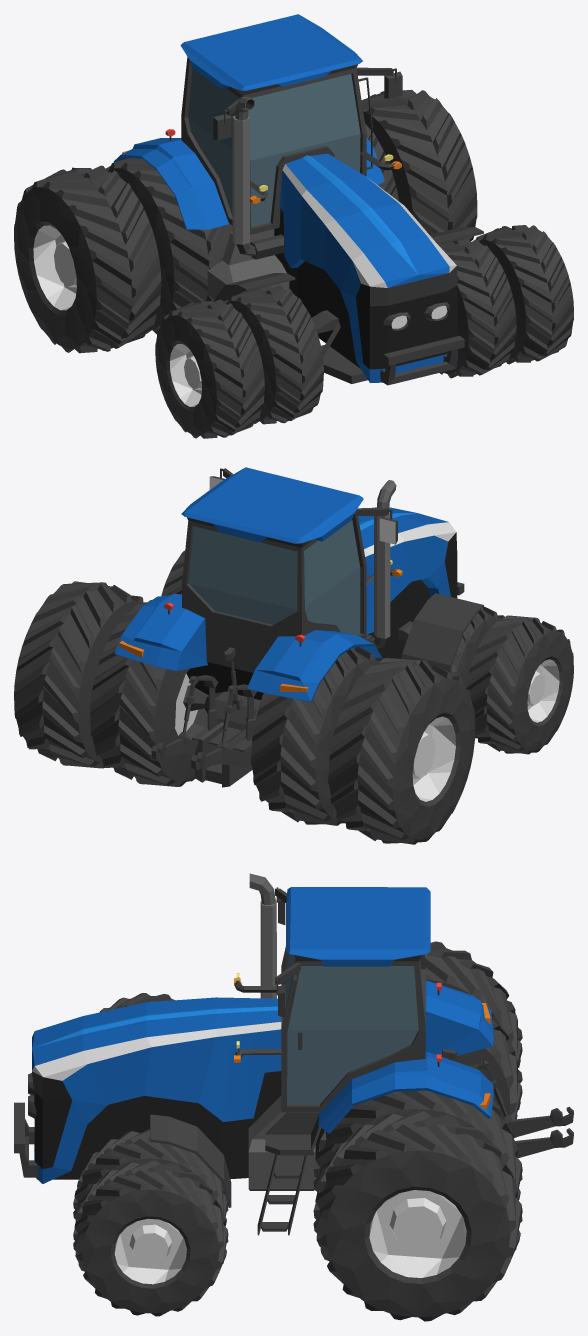
The model's file is tractor_002.glb.
The picture shows the model from 3 angles, top to bottom: view 1: azimuth 30°, elevation 25°; view 2: azimuth 150°, elevation 25°; view 3: azimuth 270°, elevation 25°; orthographic projection. The views are drawn at different scales.
Parts seen in each view (by area): view 1: tractor_002; view 2: tractor_002; view 3: tractor_002.
Part boxes in pixels (x1=…): tractor_002: x1=14, y1=14, x2=573, y2=438; tractor_002: x1=14, y1=467, x2=573, y2=844; tractor_002: x1=14, y1=873, x2=573, y2=1321.
Bounding box in the file's own units: 4.11 × 2.86 × 4.64.
Materials: 1 (1 with a texture image).
